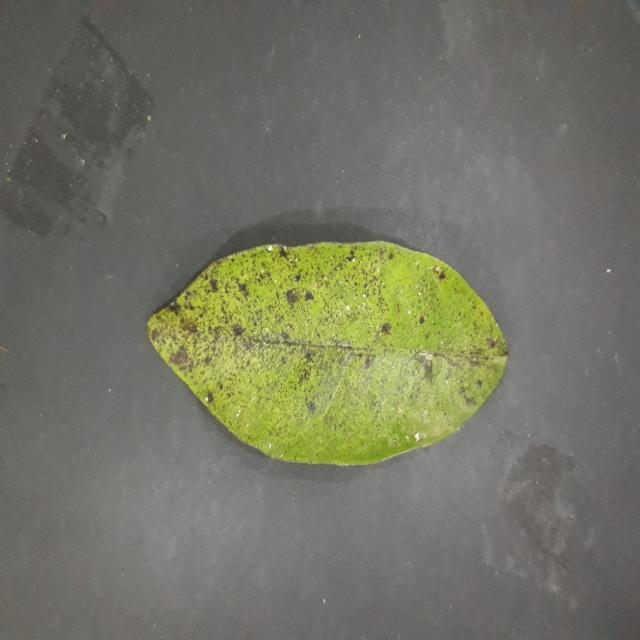greasy_spot: (148, 242, 508, 466)
